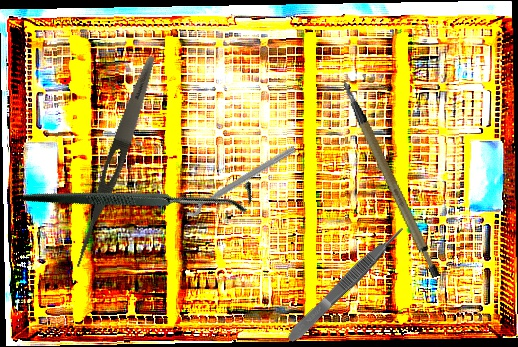Dressing Forceps: (69, 53, 161, 272)
Fixation Ring: (179, 136, 299, 220)
Hook Surgical: (20, 88, 260, 299)
Scalpel Handle: (341, 70, 443, 287)
Tissue Forceps: (283, 223, 410, 345)
